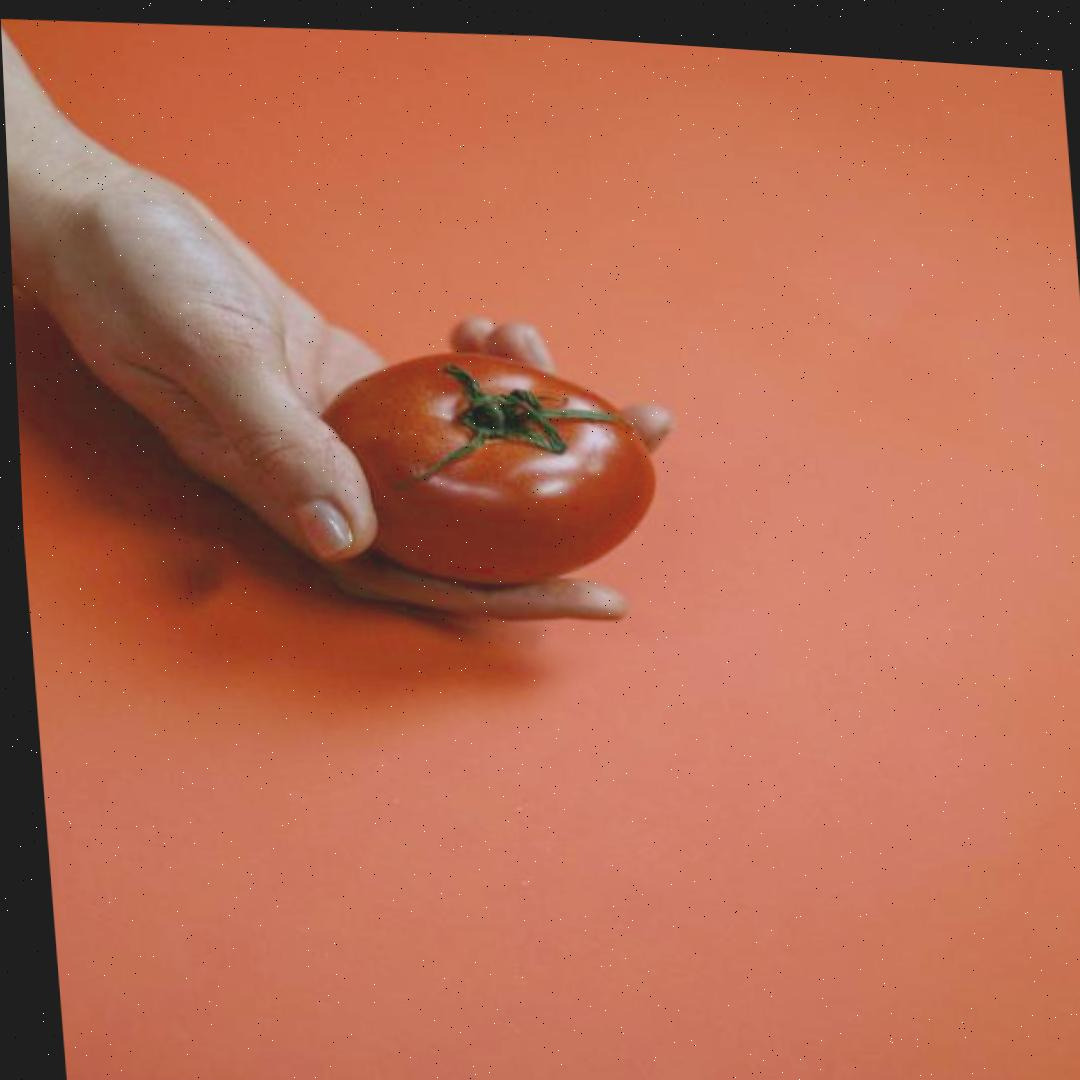matang: (300, 337, 666, 601)
